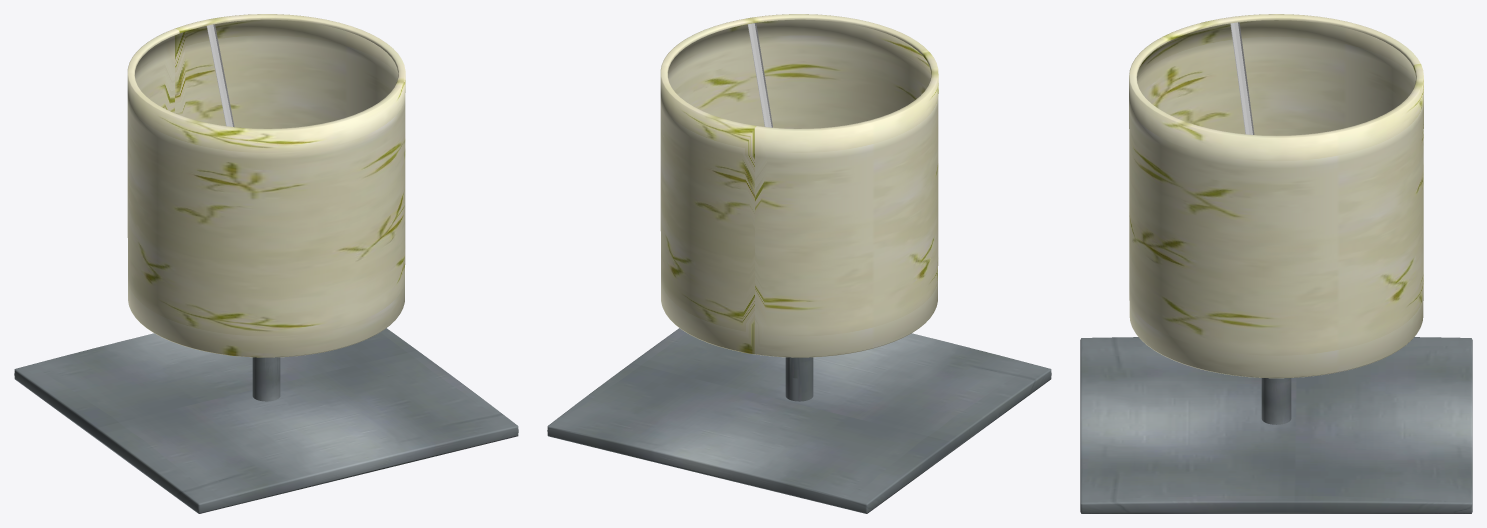
Rendered from sh-scopia-table-lamp.glb.
3 renders of one model, left to right at view 1: azimuth 30°, elevation 25°; view 2: azimuth 150°, elevation 25°; view 3: azimuth 270°, elevation 25°, orthographic. The views are drawn at different scales.
Visible parts, largest first — view 1: lampshade_off_pan.001_lampshade_off_pan.001_lampshade_off_pa, metal_brush_pulido2.j_metal_brush_pulido2.j_metal_brush_puli, whitesop_whitesop_whitesop; view 2: lampshade_off_pan.001_lampshade_off_pan.001_lampshade_off_pa, metal_brush_pulido2.j_metal_brush_pulido2.j_metal_brush_puli, whitesop_whitesop_whitesop; view 3: lampshade_off_pan.001_lampshade_off_pan.001_lampshade_off_pa, metal_brush_pulido2.j_metal_brush_pulido2.j_metal_brush_puli, whitesop_whitesop_whitesop.
Boxes of the visible parts, x1,y1,x2,y2 form: lampshade_off_pan.001_lampshade_off_pan.001_lampshade_off_pa: [127, 14, 405, 357]; metal_brush_pulido2.j_metal_brush_pulido2.j_metal_brush_puli: [14, 328, 518, 513]; whitesop_whitesop_whitesop: [206, 24, 234, 127]; lampshade_off_pan.001_lampshade_off_pan.001_lampshade_off_pa: [660, 14, 938, 357]; metal_brush_pulido2.j_metal_brush_pulido2.j_metal_brush_puli: [547, 328, 1051, 513]; whitesop_whitesop_whitesop: [747, 23, 772, 127]; lampshade_off_pan.001_lampshade_off_pan.001_lampshade_off_pa: [1129, 14, 1423, 378]; metal_brush_pulido2.j_metal_brush_pulido2.j_metal_brush_puli: [1080, 337, 1472, 513]; whitesop_whitesop_whitesop: [1230, 22, 1254, 134].
Bounding box in the file's own units: 1 × 1 × 1.
Materials: 5 (2 with a texture image).
